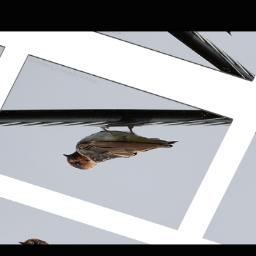Swallow: (58, 108, 183, 195)
